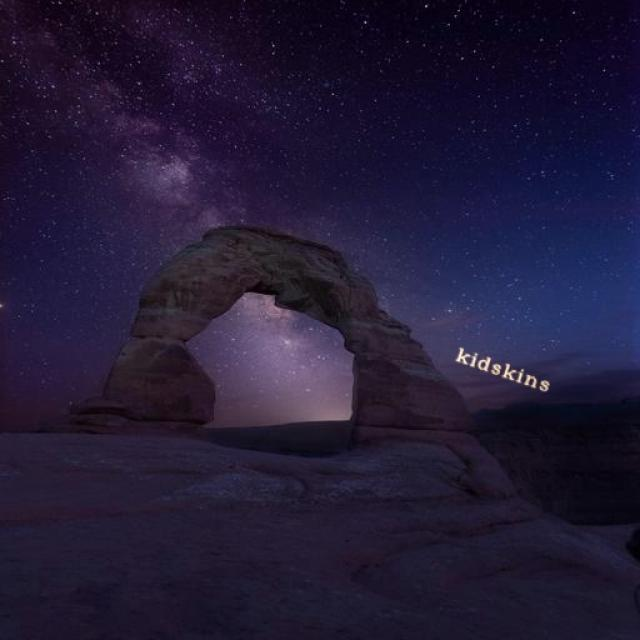watermark: (448, 344, 562, 394)
